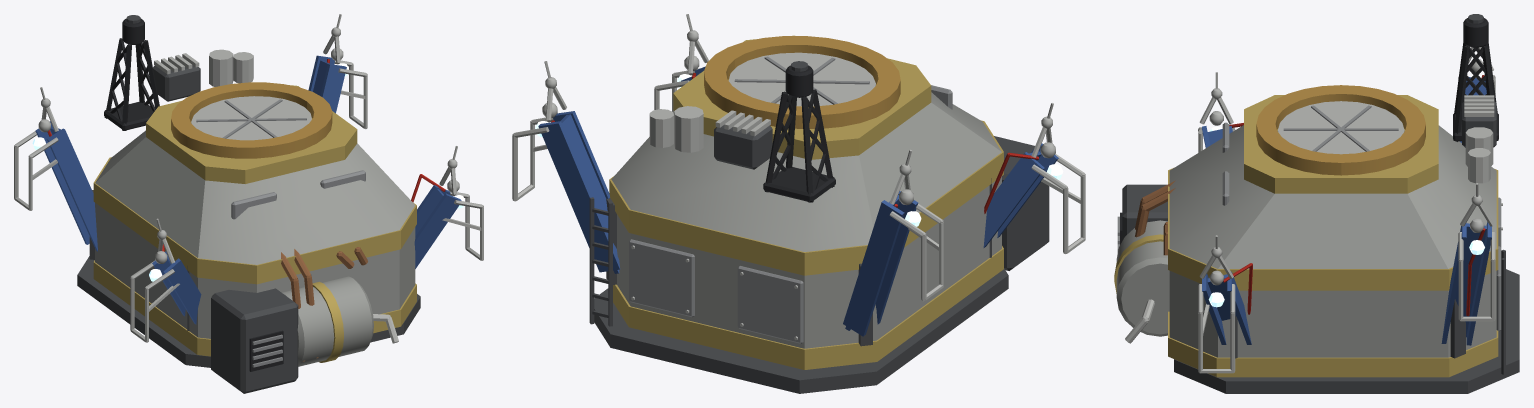
Rendered from roboport.glb.
The picture shows the model from 3 angles, left to right: view 1: azimuth 30°, elevation 25°; view 2: azimuth 150°, elevation 25°; view 3: azimuth 270°, elevation 25°; orthographic projection. The views are drawn at different scales.
Visible parts, largest first — view 1: body, anim_door_n, anim_door_s; view 2: body, anim_door_s, anim_door_n, anim_charge; view 3: body, anim_door_s, anim_door_n, anim_charge.
Part boxes in pixels (x1,y1,x2,y2): body: (14,14,483,393); anim_door_n: (191,96,304,132); anim_door_s: (204,107,311,140); body: (512,14,1085,393); anim_door_s: (737,52,875,96); anim_door_n: (728,66,860,106); anim_charge: (535,74,1063,226); body: (1114,14,1519,393); anim_door_s: (1277,101,1341,154); anim_door_n: (1340,101,1404,154); anim_charge: (1208,75,1484,307).
Size of the model in its own units: 3.8 by 2.69 by 3.52.
